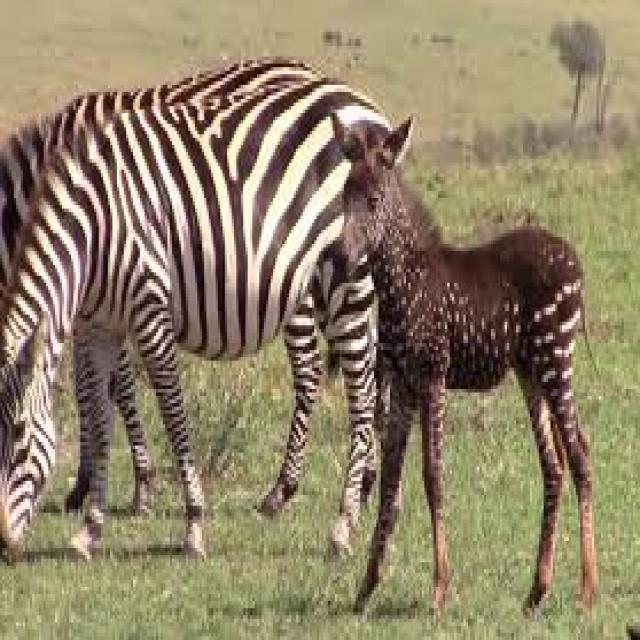Zebra: (1, 63, 366, 574), (334, 112, 604, 611)
